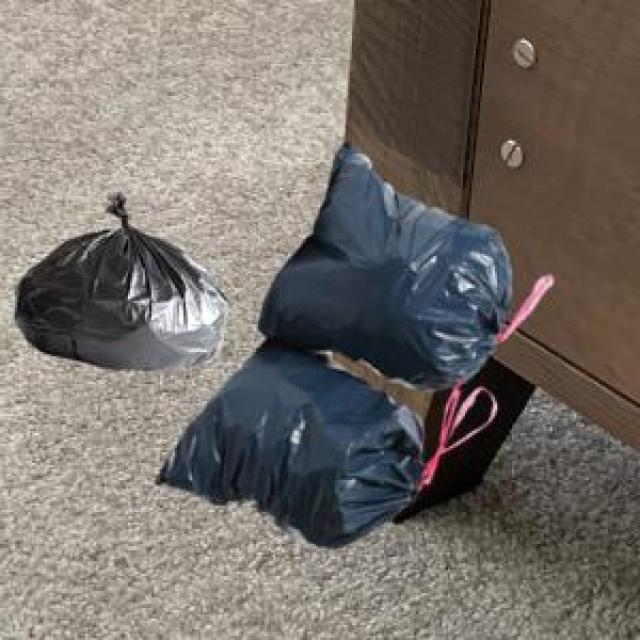Trashbag: (253, 137, 513, 398), (151, 355, 425, 554), (15, 186, 234, 383)
